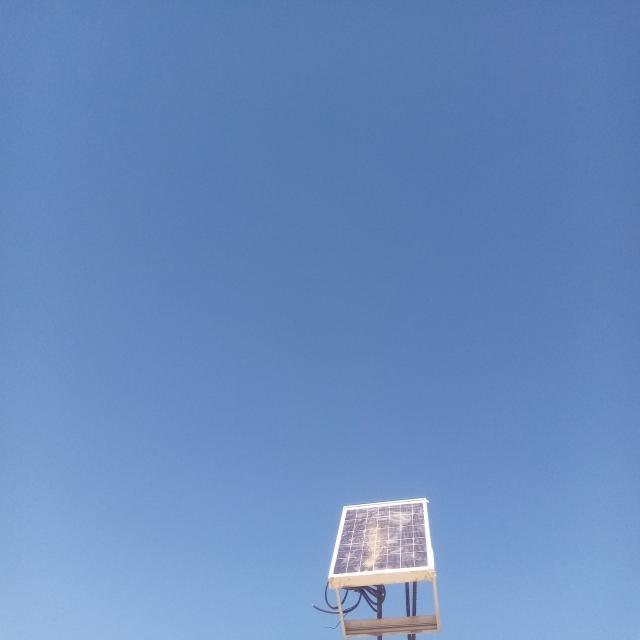faulty: (328, 498, 434, 578)
